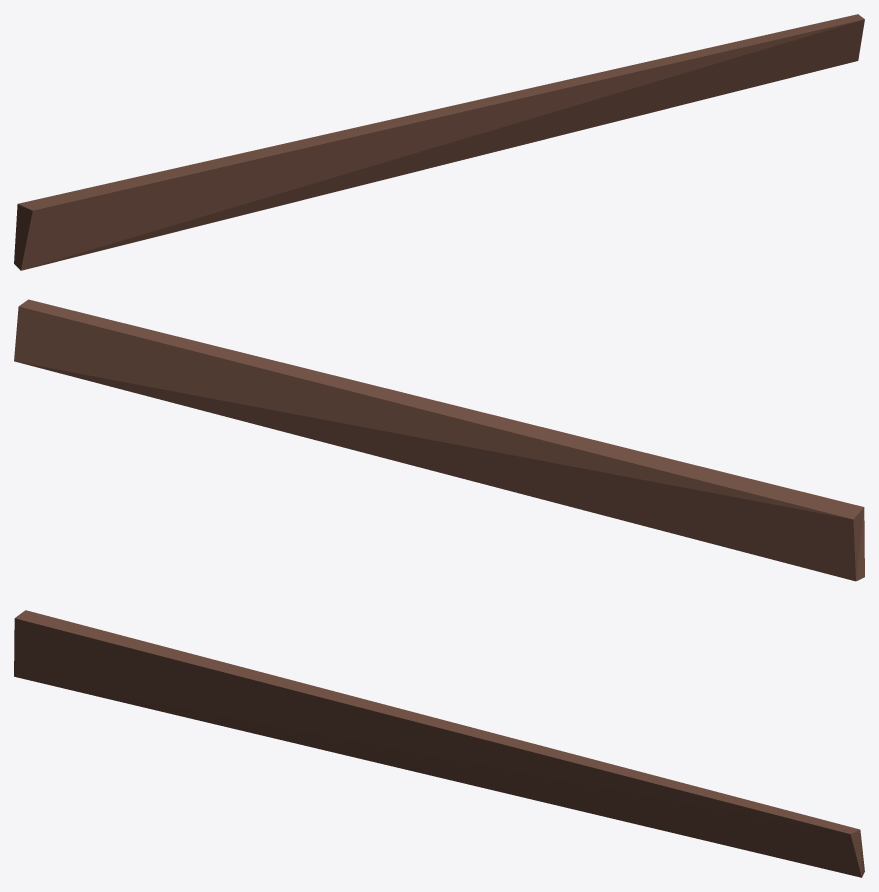
File: group395418295_lev3.glb
The picture shows the model from 3 angles, top to bottom: view 1: azimuth 30°, elevation 25°; view 2: azimuth 150°, elevation 25°; view 3: azimuth 330°, elevation 25°; orthographic projection. The views are drawn at different scales.
Visible parts, largest first — view 1: group395418295_lev3; view 2: group395418295_lev3; view 3: group395418295_lev3.
Part boxes in pixels (x1=…): group395418295_lev3: x1=14, y1=14, x2=864, y2=270; group395418295_lev3: x1=14, y1=299, x2=864, y2=581; group395418295_lev3: x1=14, y1=610, x2=864, y2=877.
Bounding box in the file's own units: 2.04 × 0.1467 × 0.0902.
